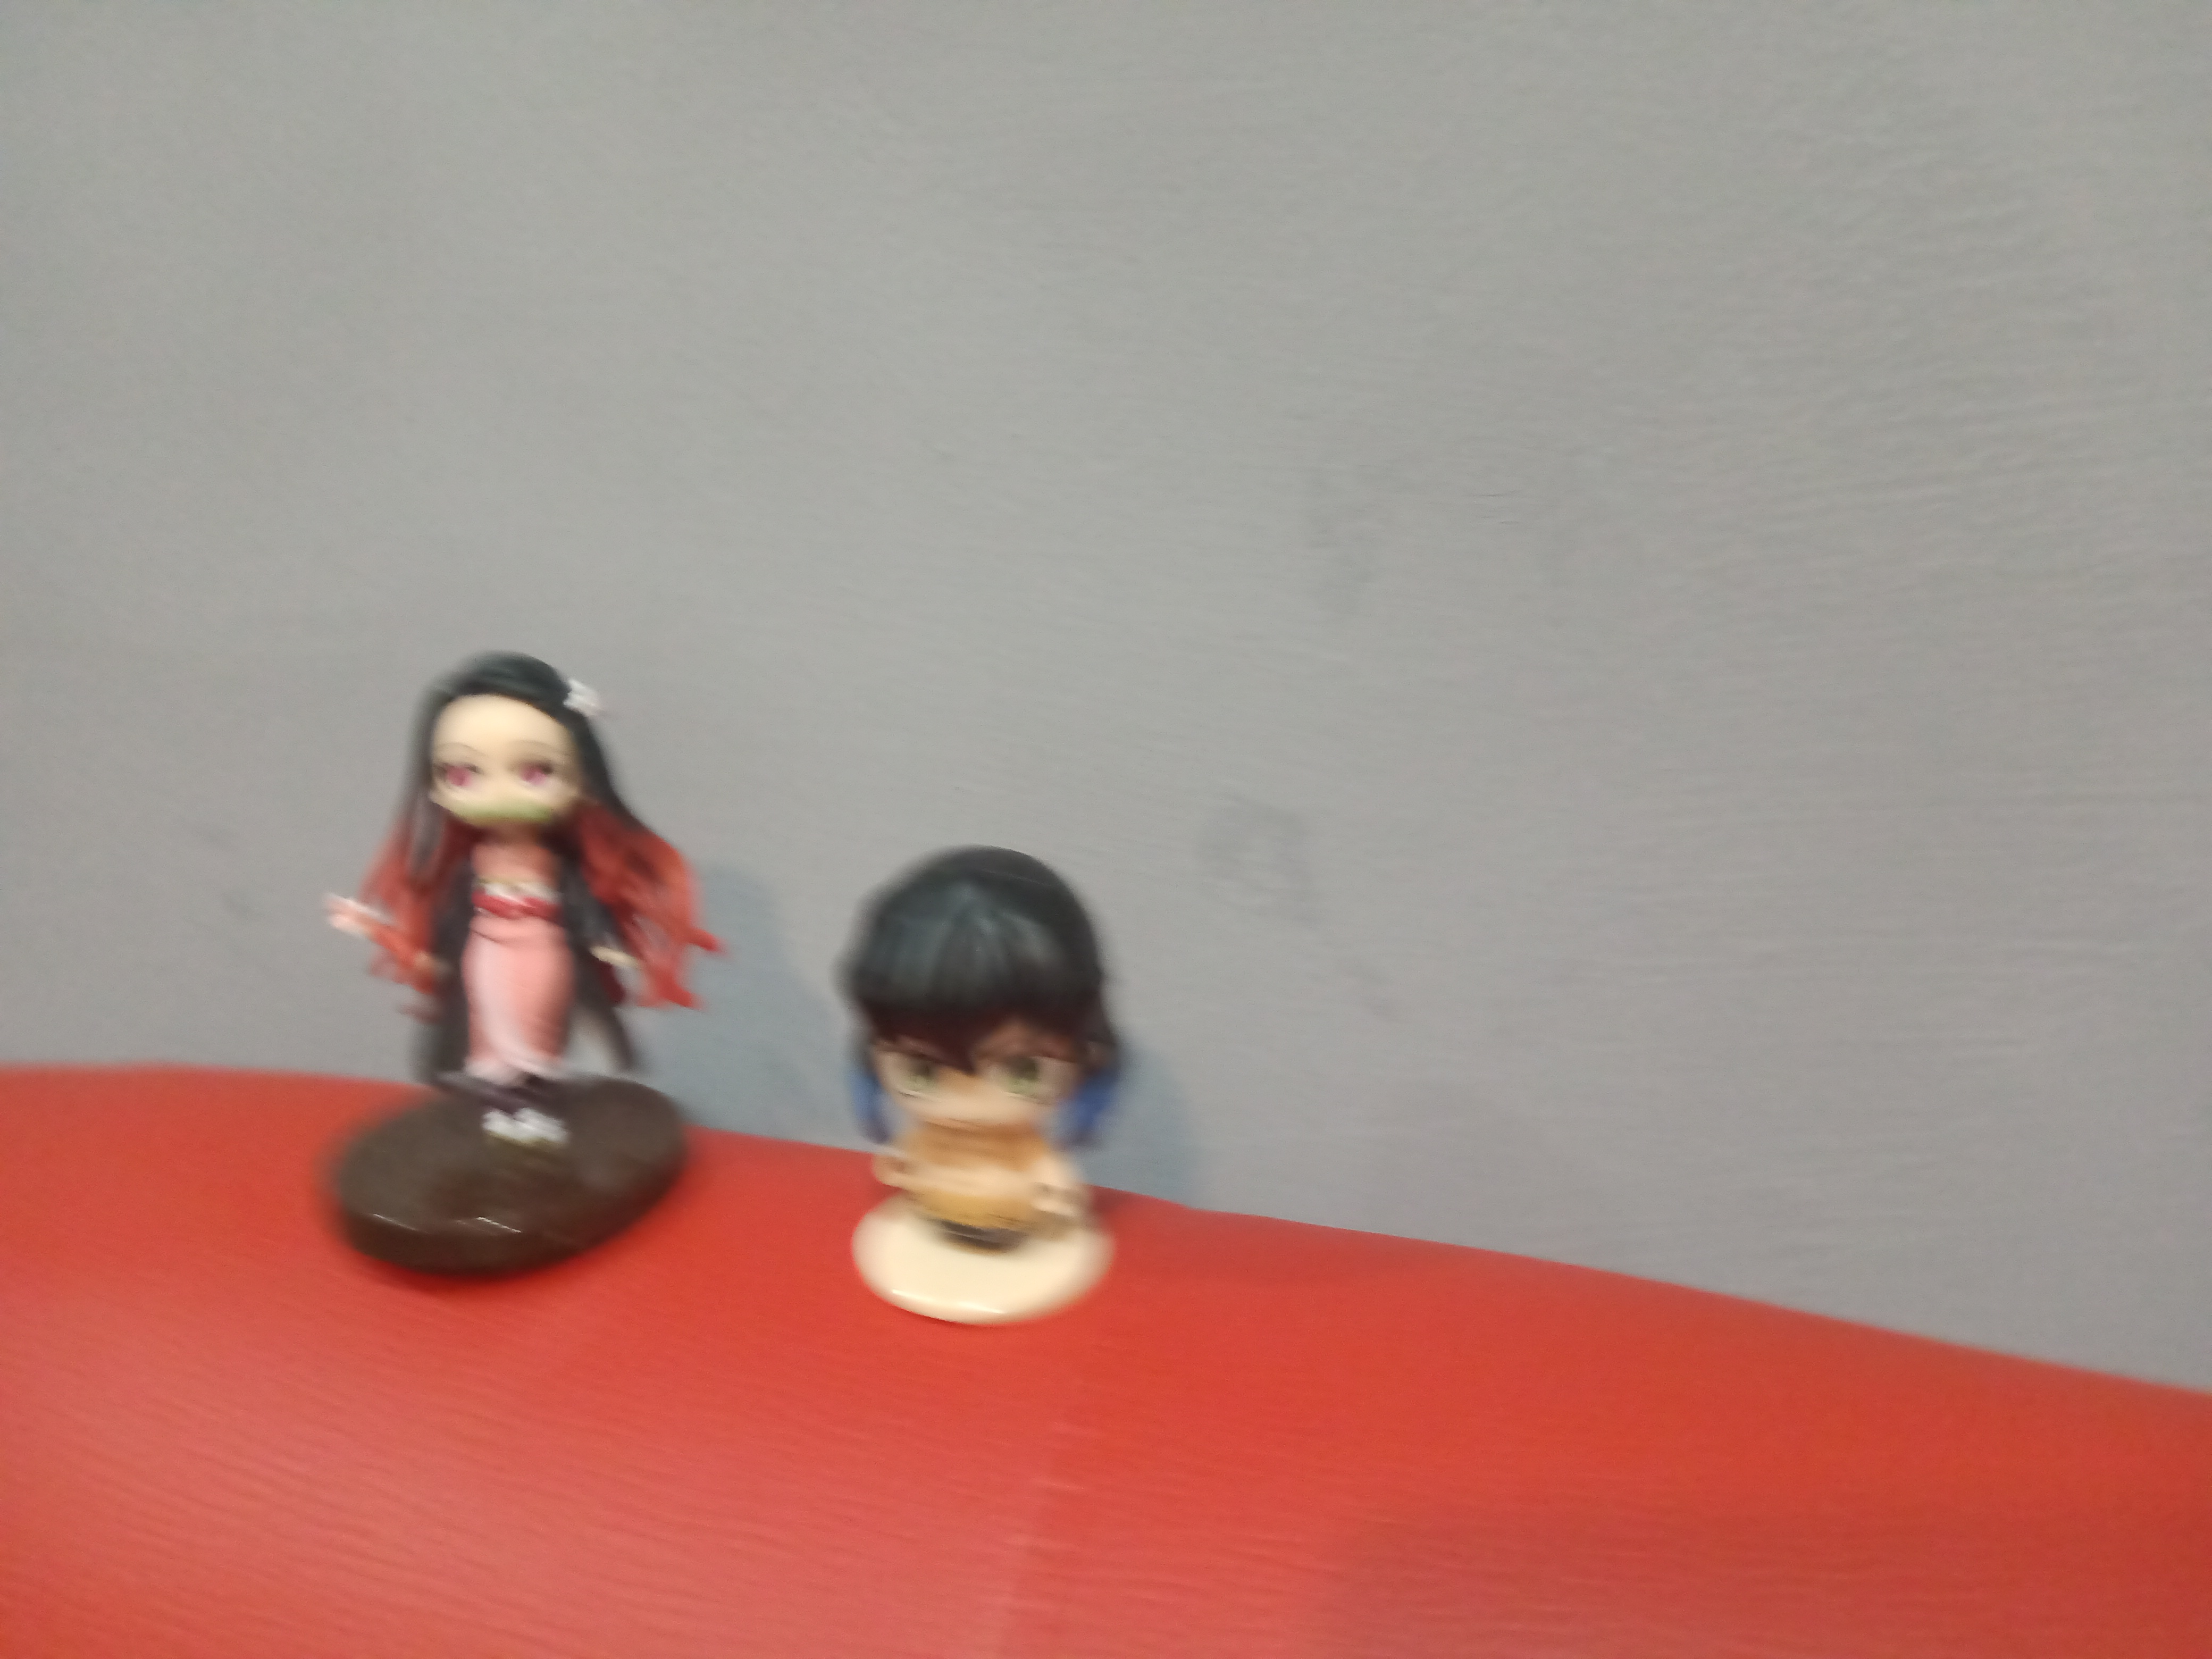Inosuke: (822, 831, 1150, 1342)
Nezuko: (287, 633, 735, 1300)
